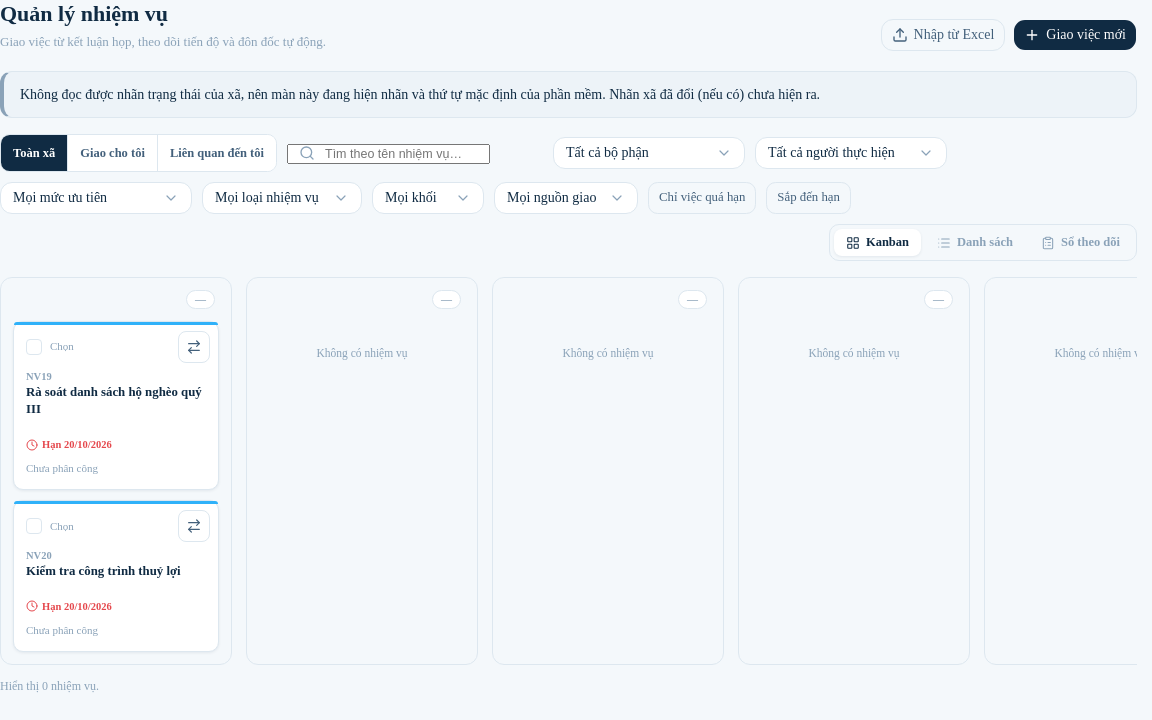
Test case: record tabs on the task panel › a tab the officer can no longer read shows the refusal in its content, and still closes
This screenshot has width=1152, height=720.
Step 1. Click the button "NV20 Kiểm tra công trình thuỷ lợi" → (116, 562), box [14,544,218,580]
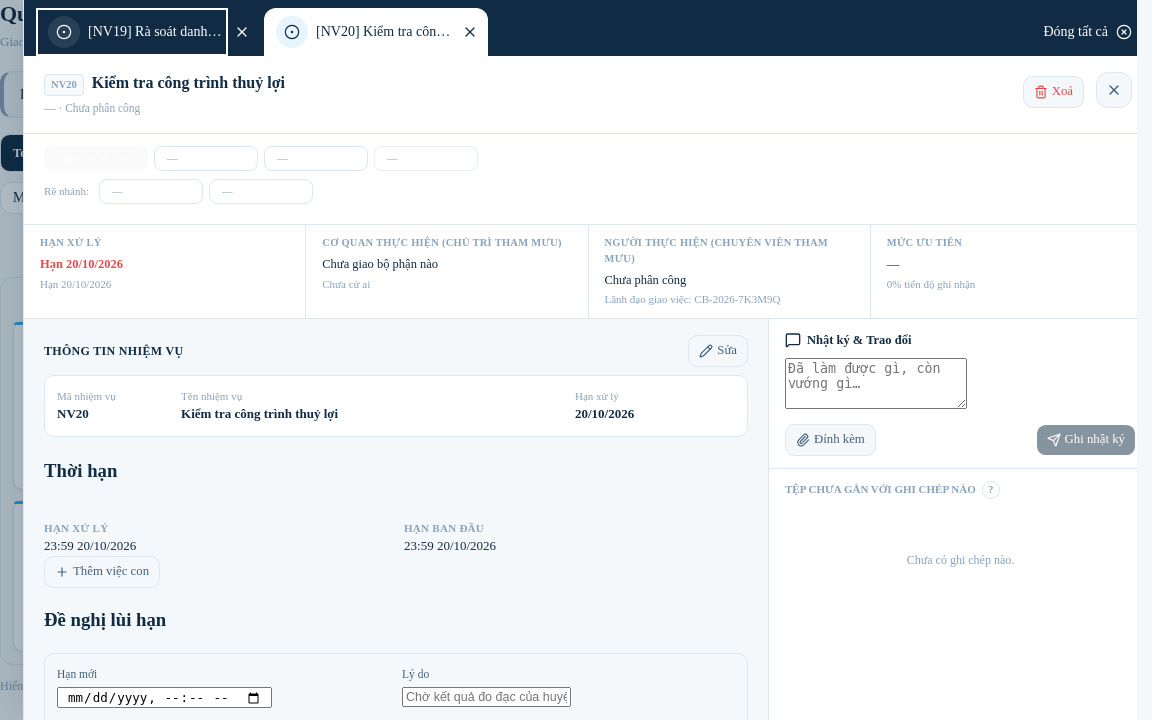
Step 2. Click the tab "[NV19] Rà soát danh sách hộ nghèo quý III" → (132, 32), box [36,8,228,56]
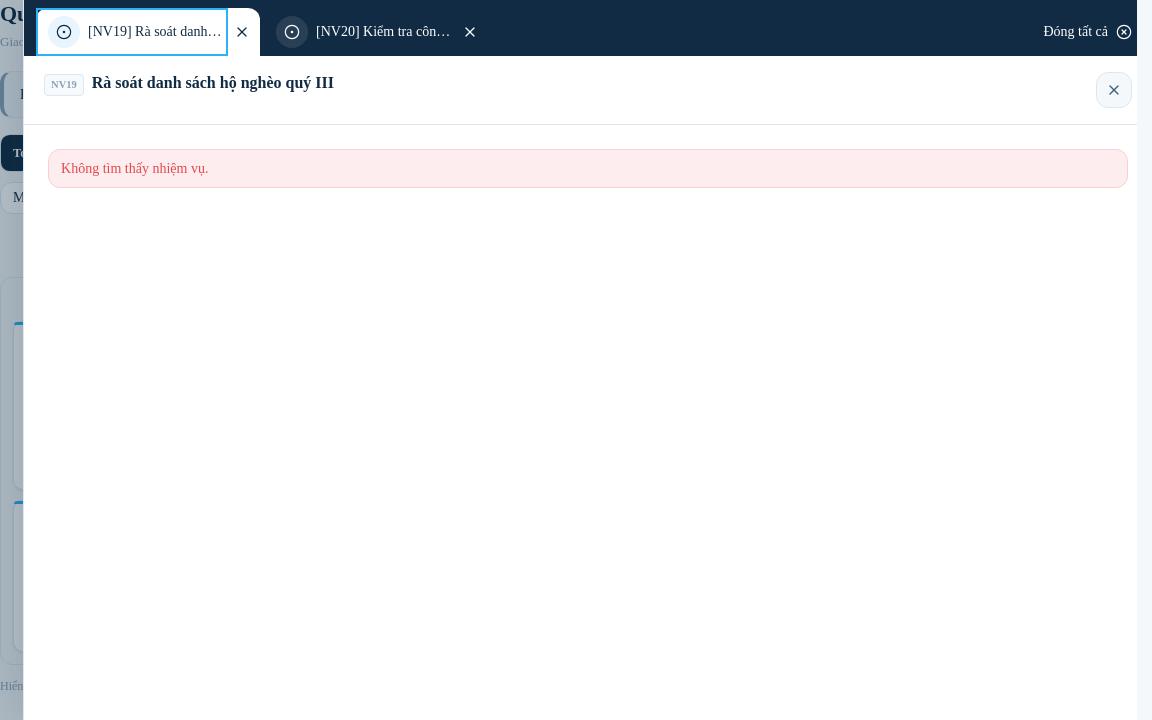
Step 3. Click the button named "Đóng tab NV19" → (242, 32), box [228,18,256,46]
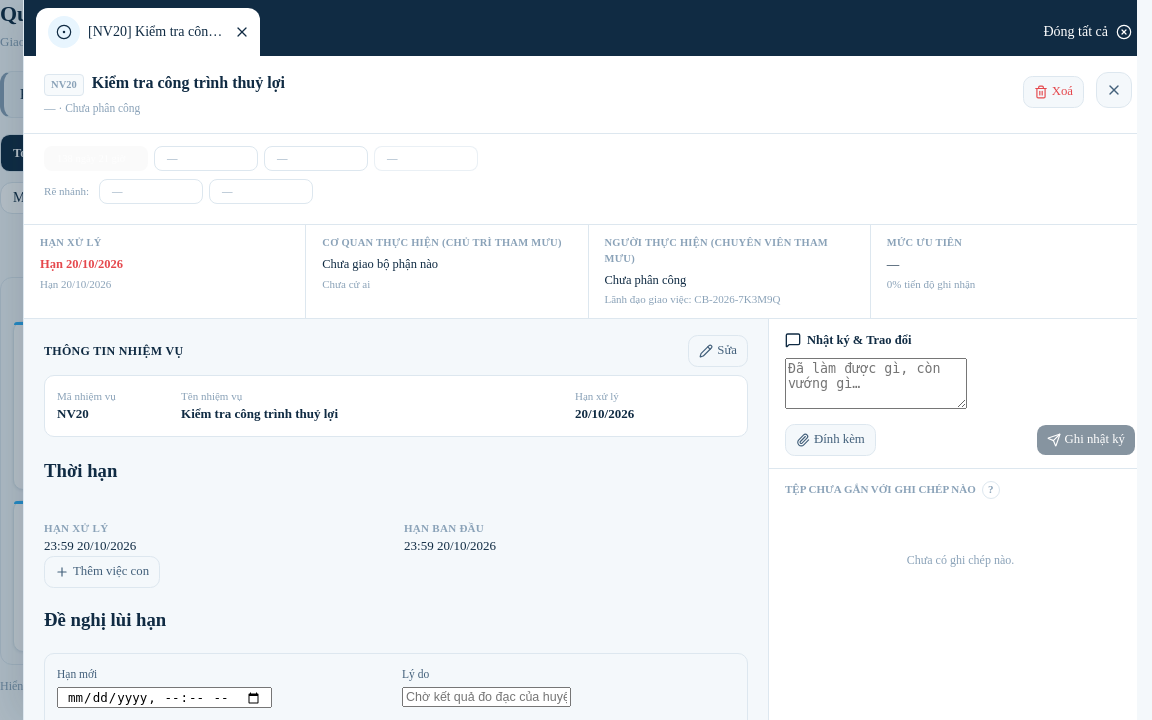
Now the header with id "tieu-de-chi-tiet-nhiem-vu" shows "NV20", box [51,79,77,90]
